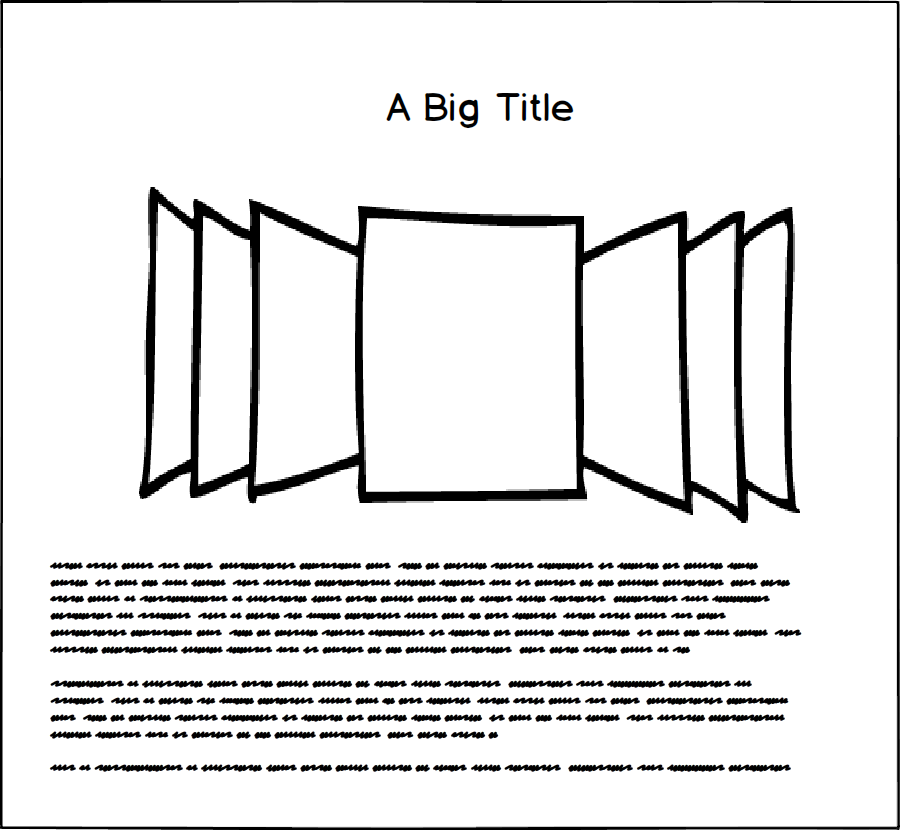h1: (379, 86, 584, 128)
p: (42, 555, 806, 783)
slideshow: (131, 178, 811, 530)
